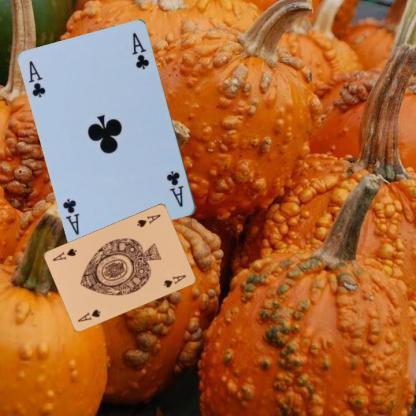Ac: (26, 58, 47, 100), (164, 168, 185, 209)
As: (75, 306, 102, 323), (134, 212, 162, 228)
